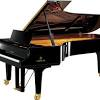Piano: (1, 1, 100, 91)
